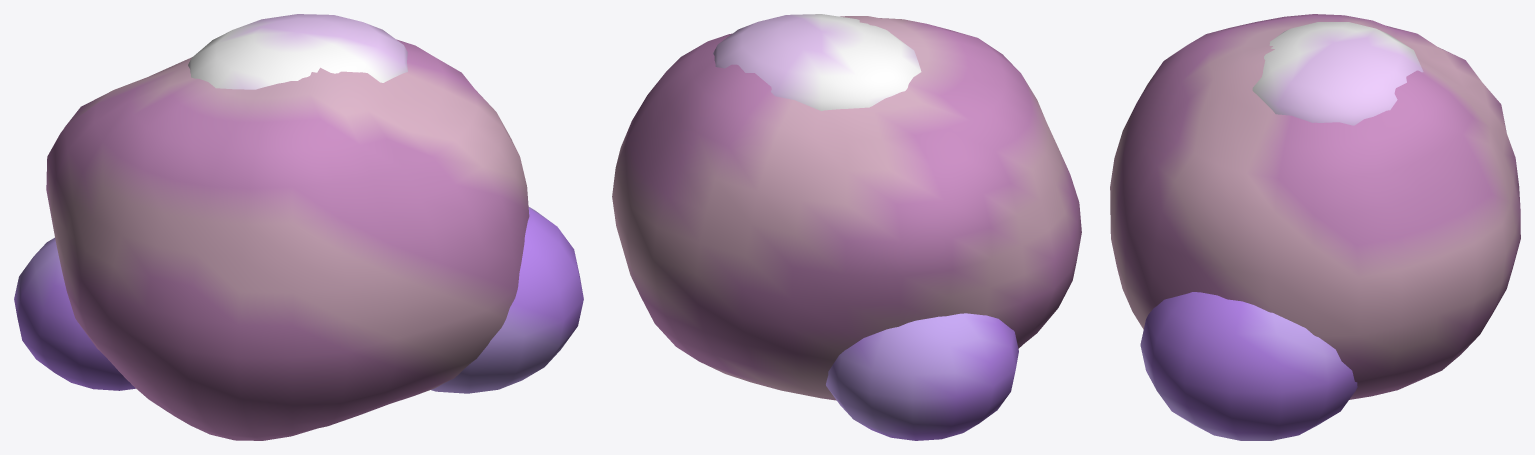
The model's file is bg_boulder.glb.
3 views of the same model, side by side, from view 1: azimuth 30°, elevation 25°; view 2: azimuth 150°, elevation 25°; view 3: azimuth 270°, elevation 25° (orthographic). The views are drawn at different scales.
Visible parts, largest first — view 1: M_Boulder__bo_a, M_Boulder__bo_b, M_Boulder__bo_c; view 2: M_Boulder__bo_a, M_Boulder__bo_b, M_Boulder__bo_c; view 3: M_Boulder__bo_a, M_Boulder__bo_b, M_Boulder__bo_c.
Boxes of the visible parts, <box> form: M_Boulder__bo_a: <box>46,39,529,440</box>; M_Boulder__bo_b: <box>14,207,583,393</box>; M_Boulder__bo_c: <box>188,14,407,89</box>; M_Boulder__bo_a: <box>612,16,1081,400</box>; M_Boulder__bo_b: <box>826,313,1018,440</box>; M_Boulder__bo_c: <box>713,14,921,111</box>; M_Boulder__bo_a: <box>1110,14,1520,399</box>; M_Boulder__bo_b: <box>1140,292,1357,440</box>; M_Boulder__bo_c: <box>1252,22,1423,125</box>.
Size of the model in its own units: 2.57 by 1.97 by 2.13.
